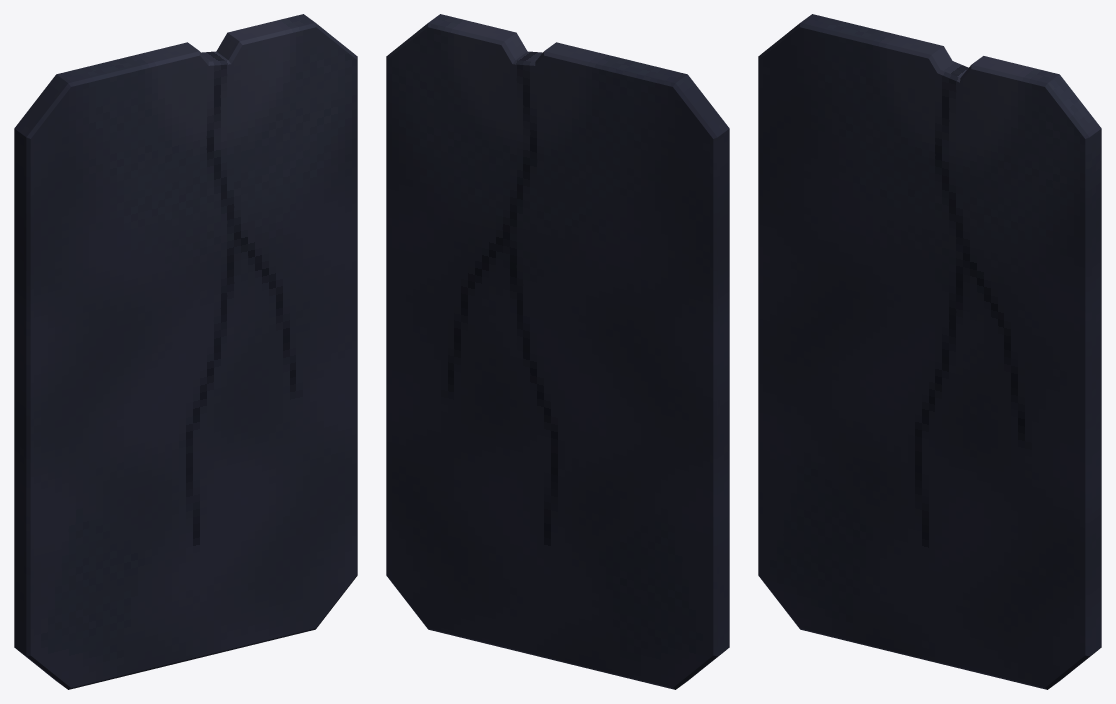
File: relic.glb
3 renders of one model, left to right at view 1: azimuth 30°, elevation 25°; view 2: azimuth 150°, elevation 25°; view 3: azimuth 330°, elevation 25°, orthographic.
Visible parts, largest first — view 1: Body.Shell; view 2: Body.Shell; view 3: Body.Shell.
Part boxes in pixels (x1=…): Body.Shell: x1=14, y1=14, x2=357, y2=689; Body.Shell: x1=386, y1=14, x2=729, y2=689; Body.Shell: x1=758, y1=14, x2=1101, y2=689.
Bounding box in the file's own units: 0.1875 × 0.3281 × 0.015.
Materials: 1 (1 with a texture image).
